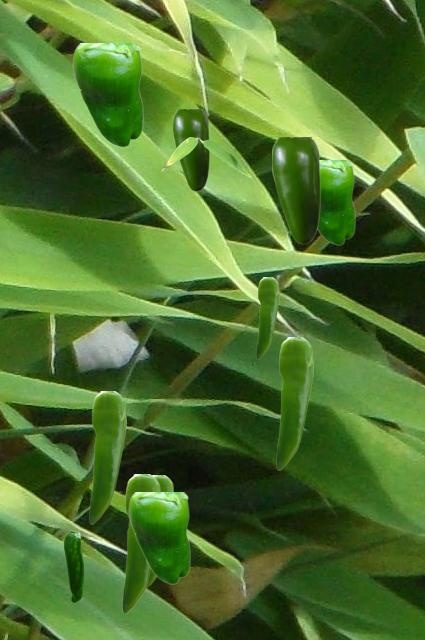green_chili: (72, 43, 142, 146), (128, 492, 189, 583), (122, 474, 160, 612), (272, 137, 319, 243), (276, 337, 312, 469), (89, 391, 125, 523), (318, 160, 354, 244), (147, 475, 173, 588), (173, 109, 208, 190), (256, 277, 278, 358), (64, 533, 82, 601)
